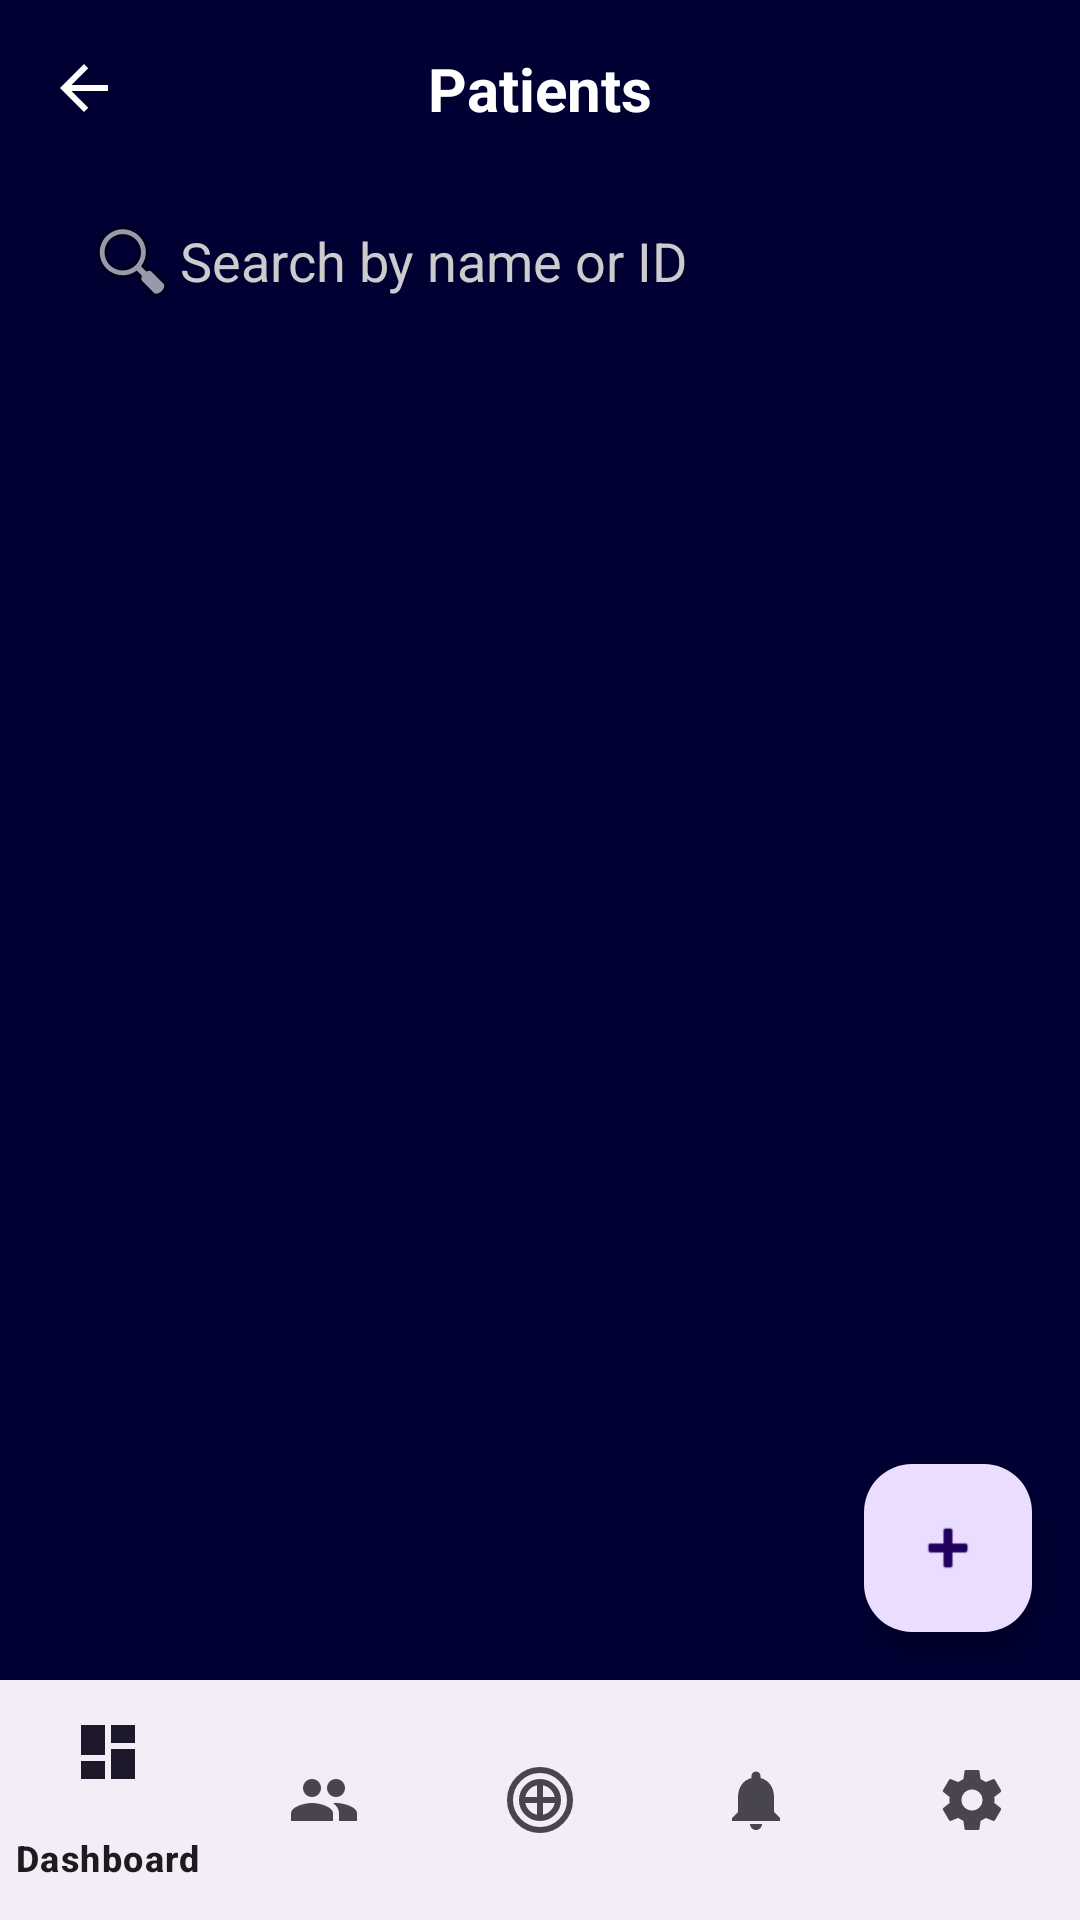

Where to tap for icons on this 1080 × 1920 app screen, as (x,y):
add: (948,1548)
arrow back: (84,88)
